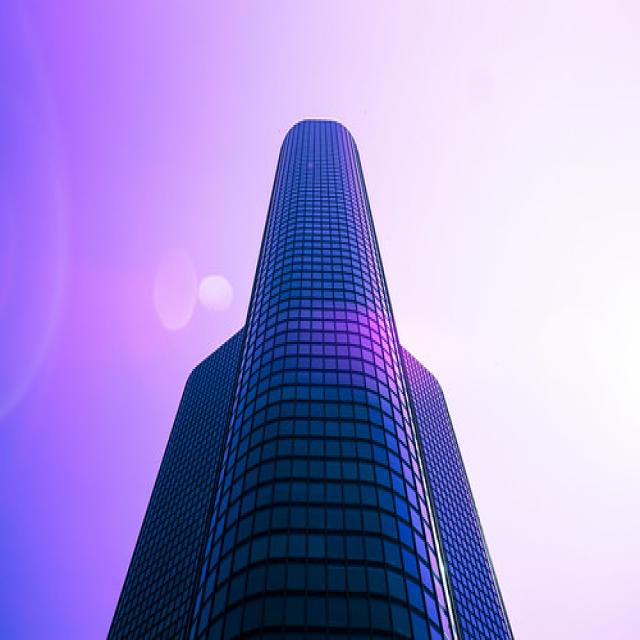building: (103, 105, 520, 637)
